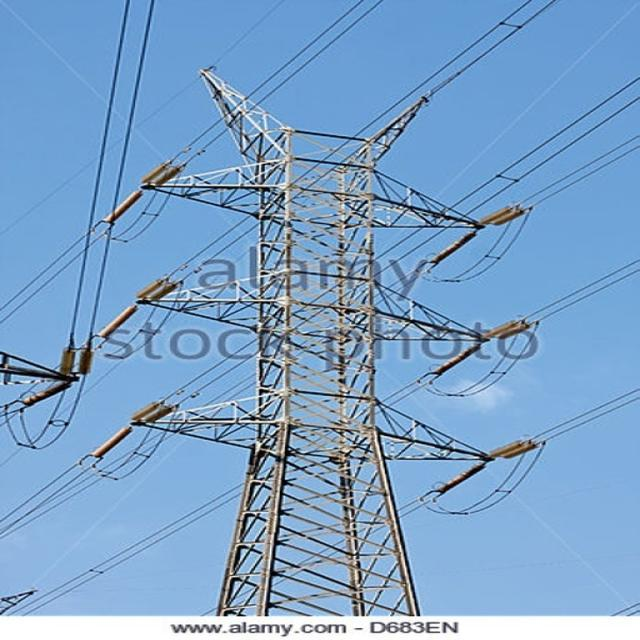non-critical vegetation: (155, 68, 539, 561)
